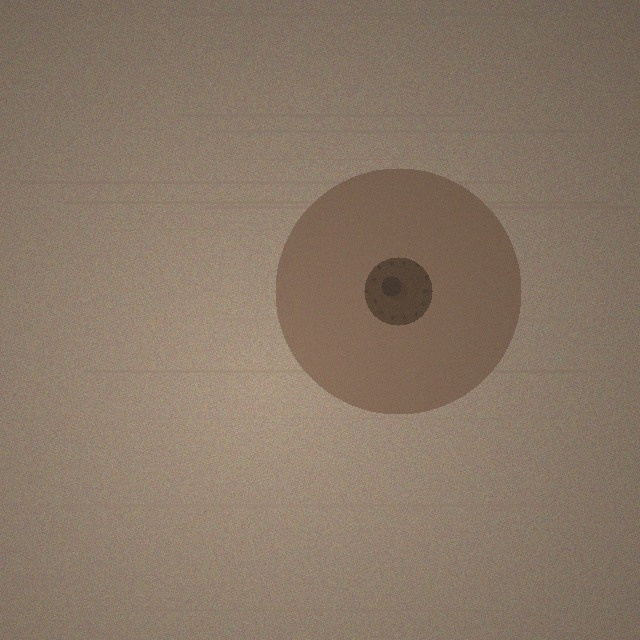cold_weld: (275, 168, 521, 414)
